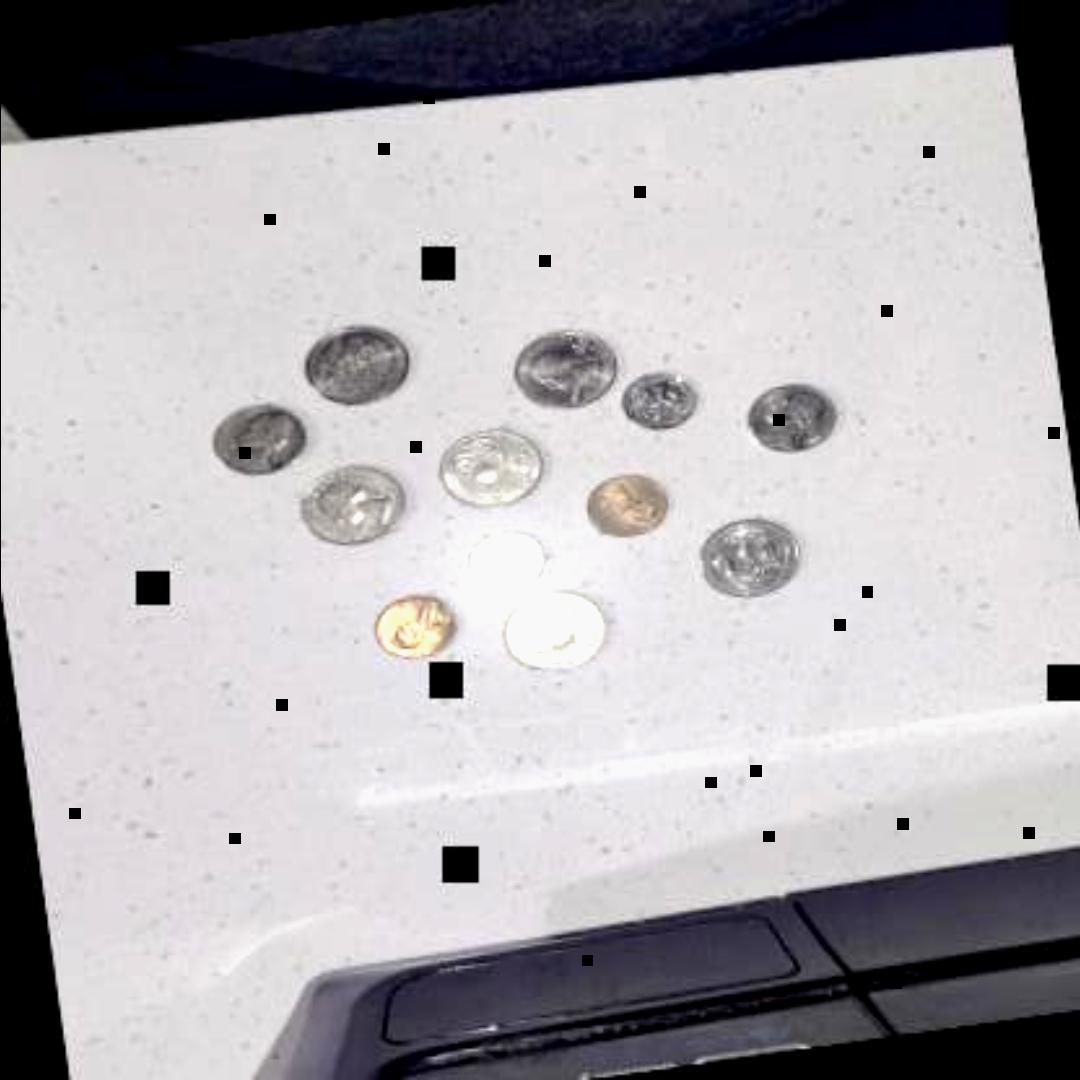Dime: (462, 523, 554, 595), (618, 366, 706, 438)
Nickel: (736, 373, 846, 463), (210, 395, 313, 483)
Penny: (573, 462, 687, 546), (360, 584, 466, 668)
Quarter: (290, 456, 418, 554), (694, 507, 812, 610), (431, 420, 555, 518), (505, 324, 629, 422), (497, 583, 616, 681), (298, 316, 416, 414)
